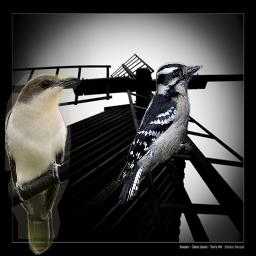Cuckoo: (5, 74, 82, 255)
Woodpecker: (117, 61, 203, 207)
